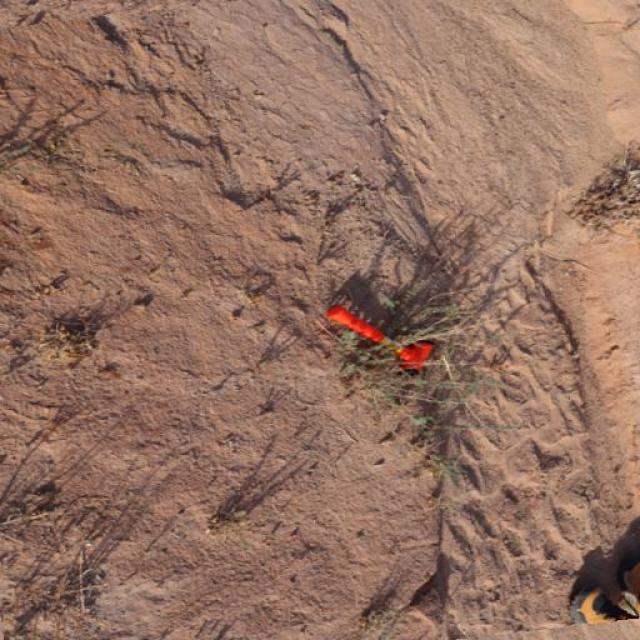mallet: (323, 303, 435, 375)
